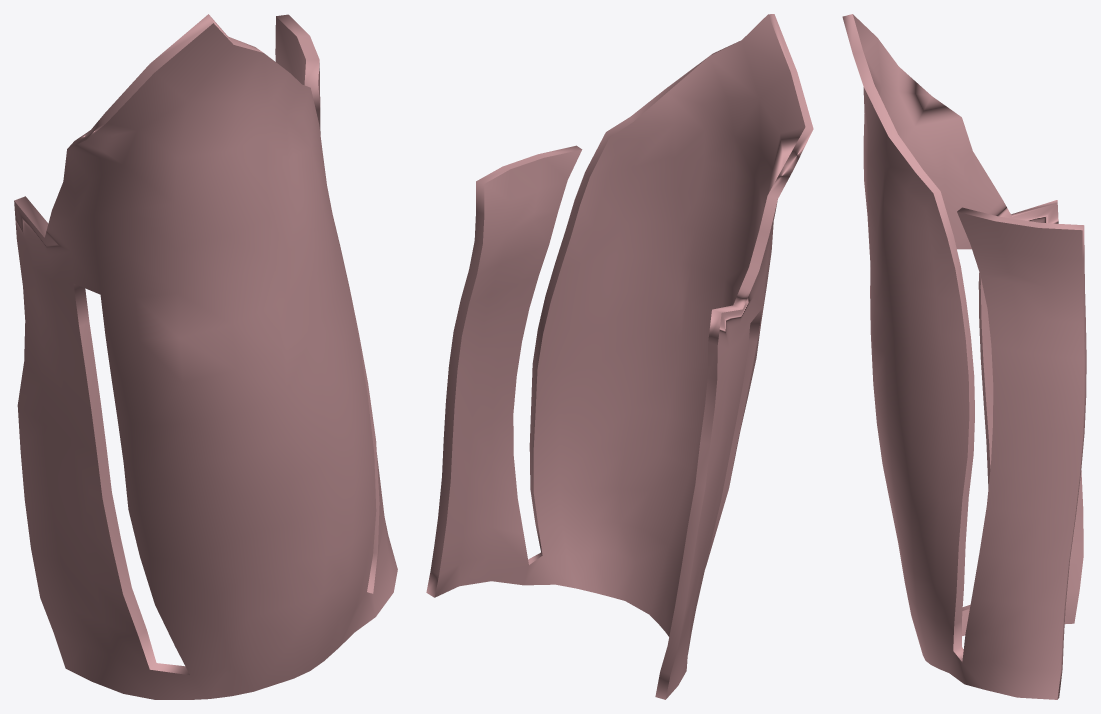
3 renders of one model, left to right at view 1: azimuth 30°, elevation 25°; view 2: azimuth 150°, elevation 25°; view 3: azimuth 270°, elevation 25°, orthographic. The views are drawn at different scales.
Parts seen in each view (by area): view 1: ZA_86dfc7b59ac02957; view 2: ZA_86dfc7b59ac02957; view 3: ZA_86dfc7b59ac02957.
Boxes of the visible parts, x1=… form: ZA_86dfc7b59ac02957: x1=14, y1=14, x2=397, y2=699; ZA_86dfc7b59ac02957: x1=426, y1=14, x2=813, y2=699; ZA_86dfc7b59ac02957: x1=842, y1=14, x2=1086, y2=699.
Size of the model in its own units: 0.096 by 0.1823 by 0.0662.
